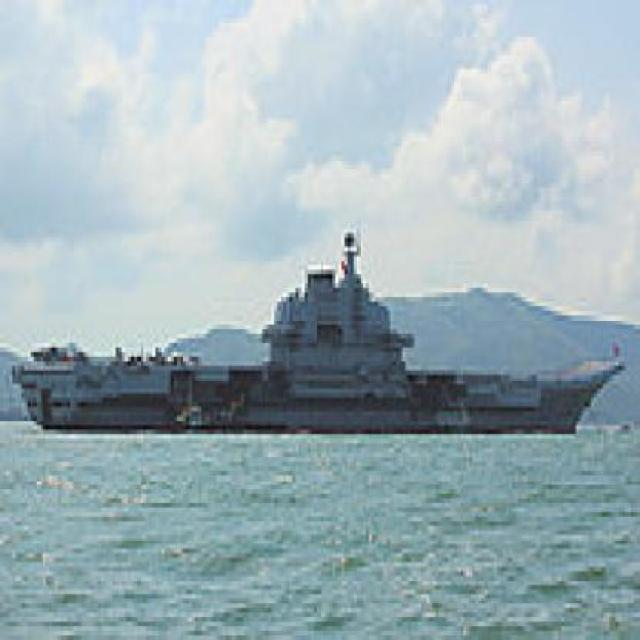warship2: (16, 184, 629, 463)
